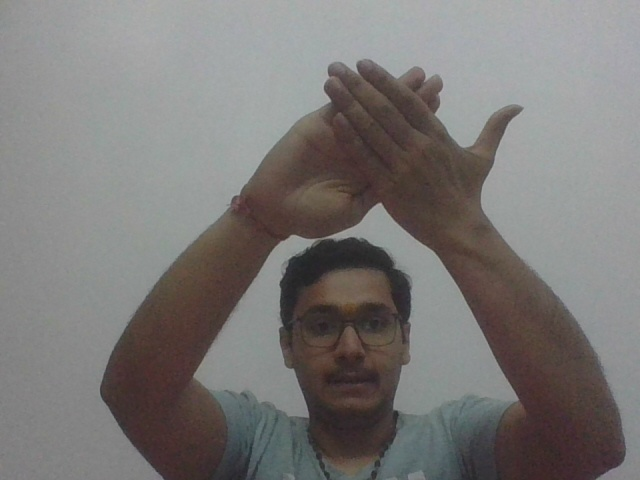H: (247, 58, 528, 246)
